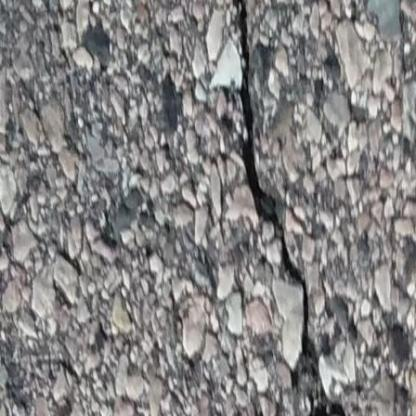Cracks: (198, 0, 393, 416)
